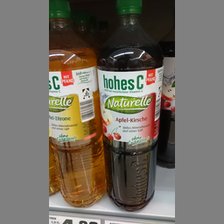juice: (98, 1, 164, 211), (50, 1, 109, 207)
